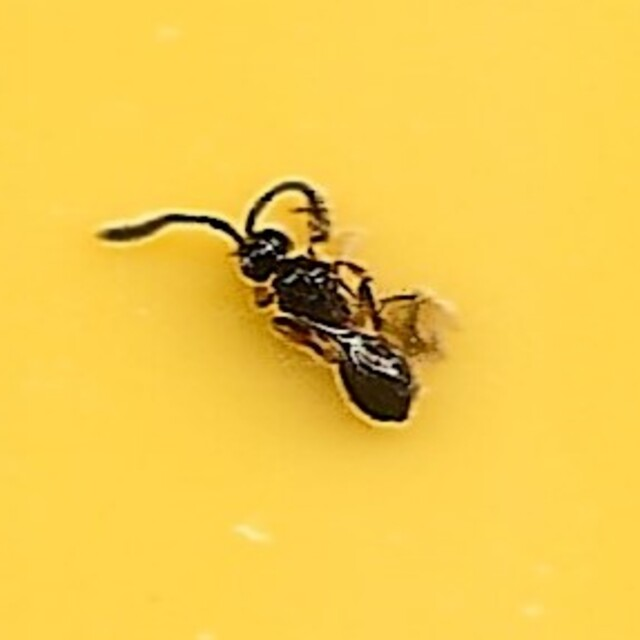Hymenoptera: (223, 214, 417, 426)
